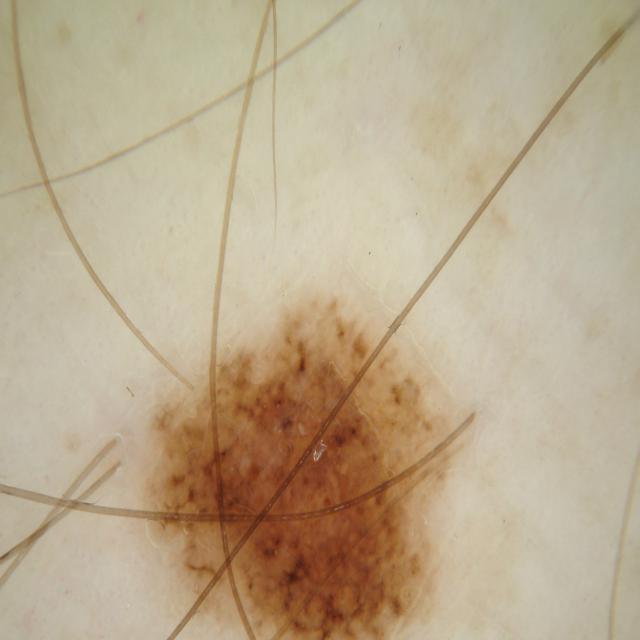Melanoma: (154, 316, 501, 640)
